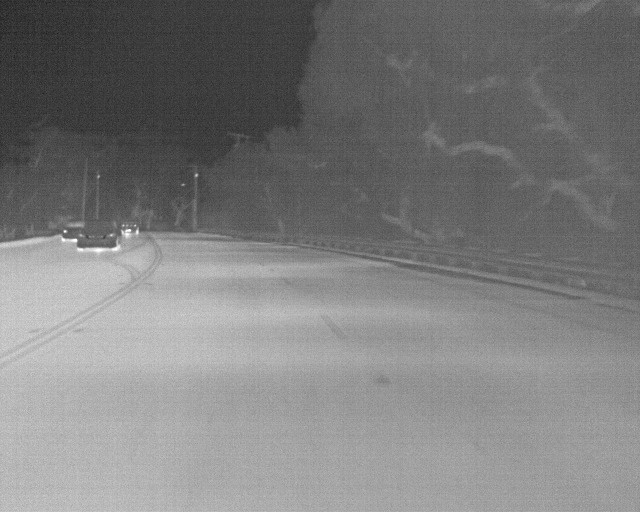vehicle: (78, 216, 123, 252), (122, 215, 143, 240)
